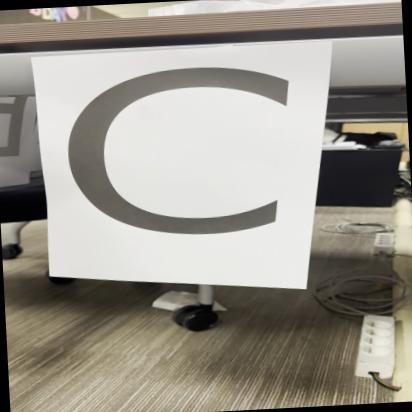seat: (46, 35, 335, 275)
